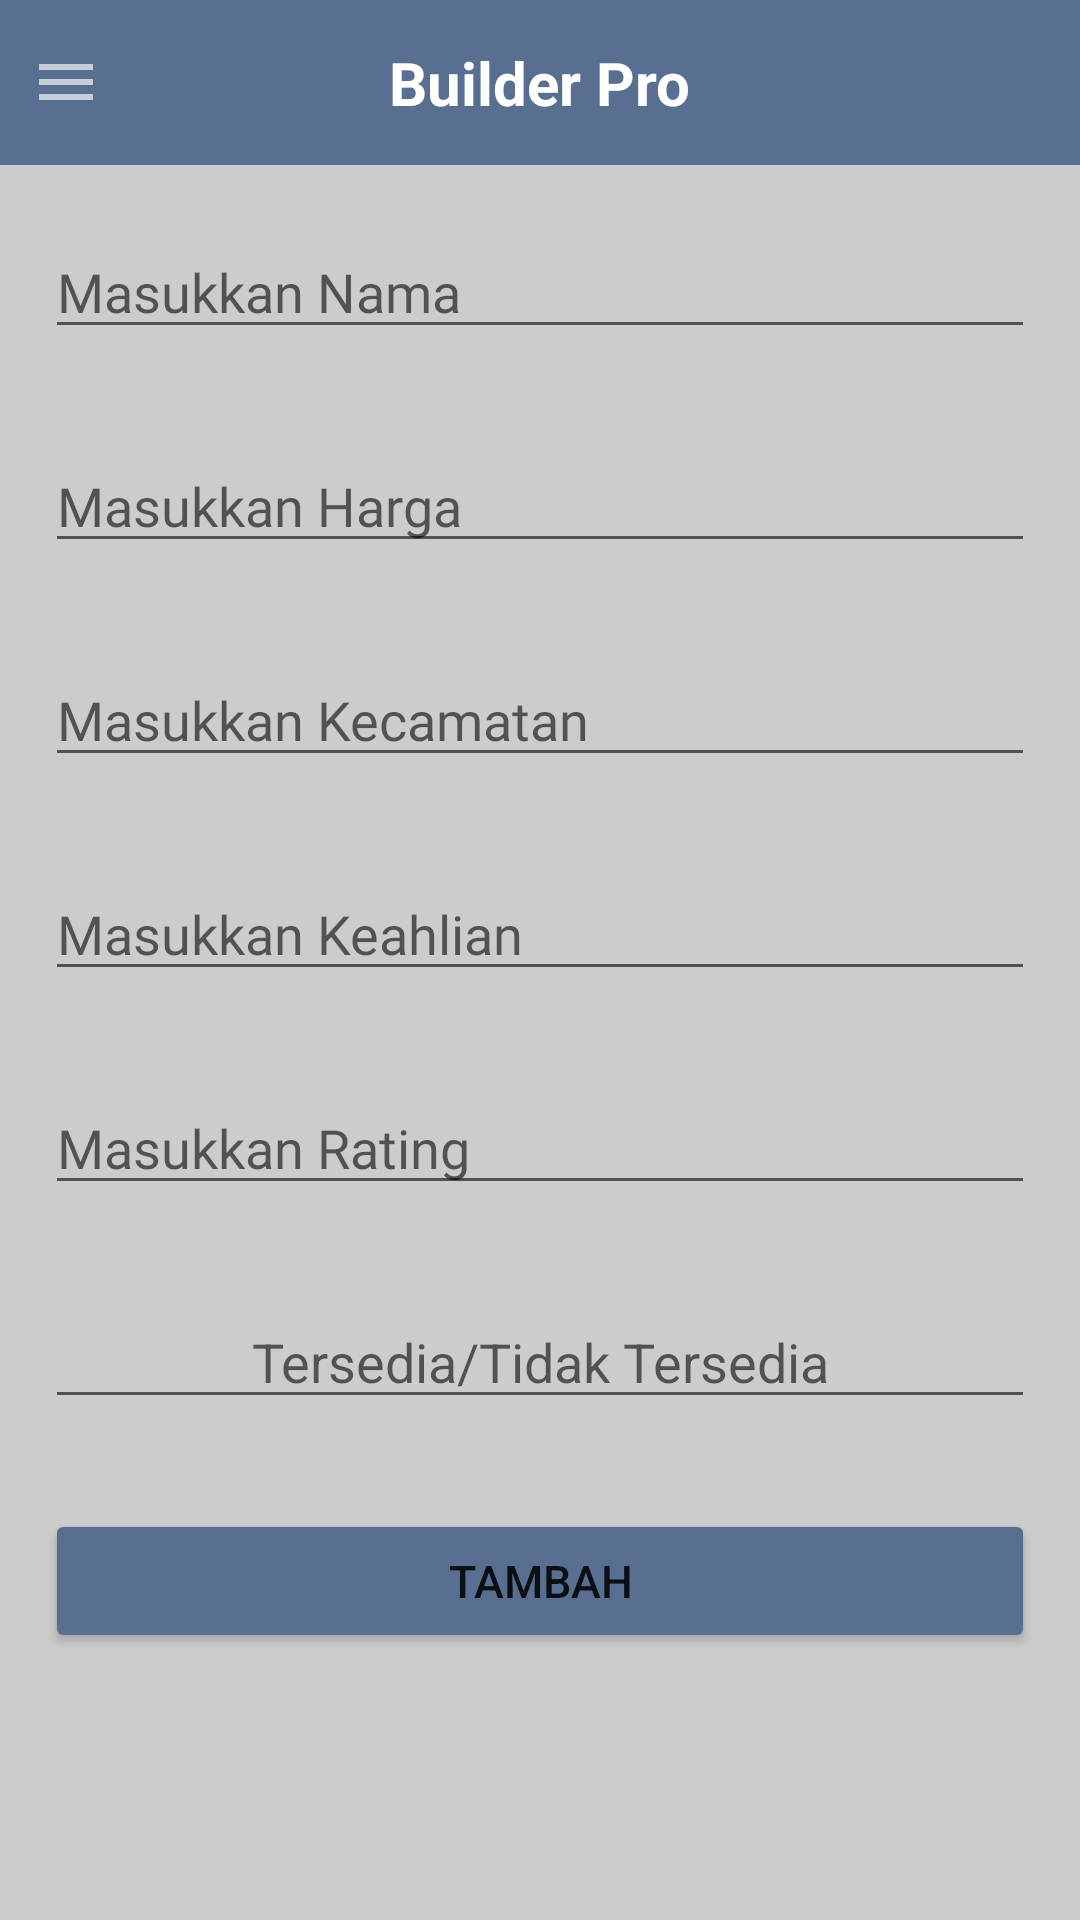

Screen size 1080px×1920px. Icon name, then its center in pixels as (x,y):
menu: (66,82)
